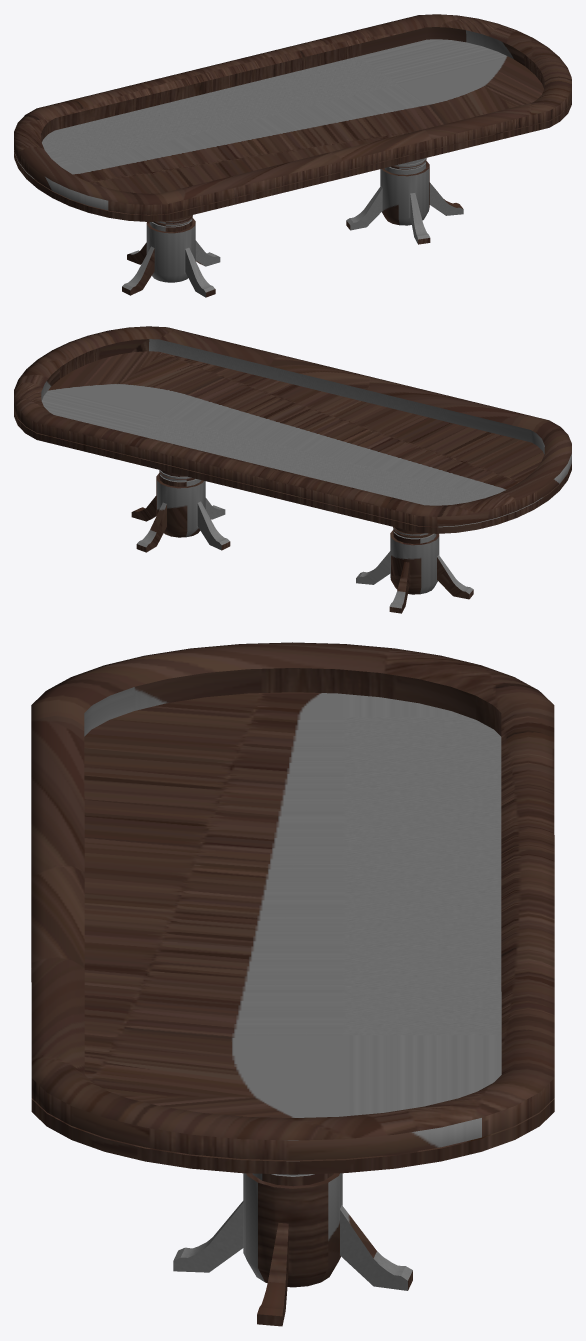
File: PokerTable.obj
3 renders of one model, top to bottom at view 1: azimuth 30°, elevation 25°; view 2: azimuth 150°, elevation 25°; view 3: azimuth 270°, elevation 25°, orthographic. The views are drawn at different scales.
Parts seen in each view (by area): view 1: PokerTable; view 2: PokerTable; view 3: PokerTable.
Part boxes in pixels (box(x1,y1,x2,y2)): PokerTable: box(14, 14, 571, 297); PokerTable: box(14, 326, 571, 613); PokerTable: box(31, 642, 554, 1326).
Size of the model in its own units: 2.94 by 0.7752 by 1.3.
